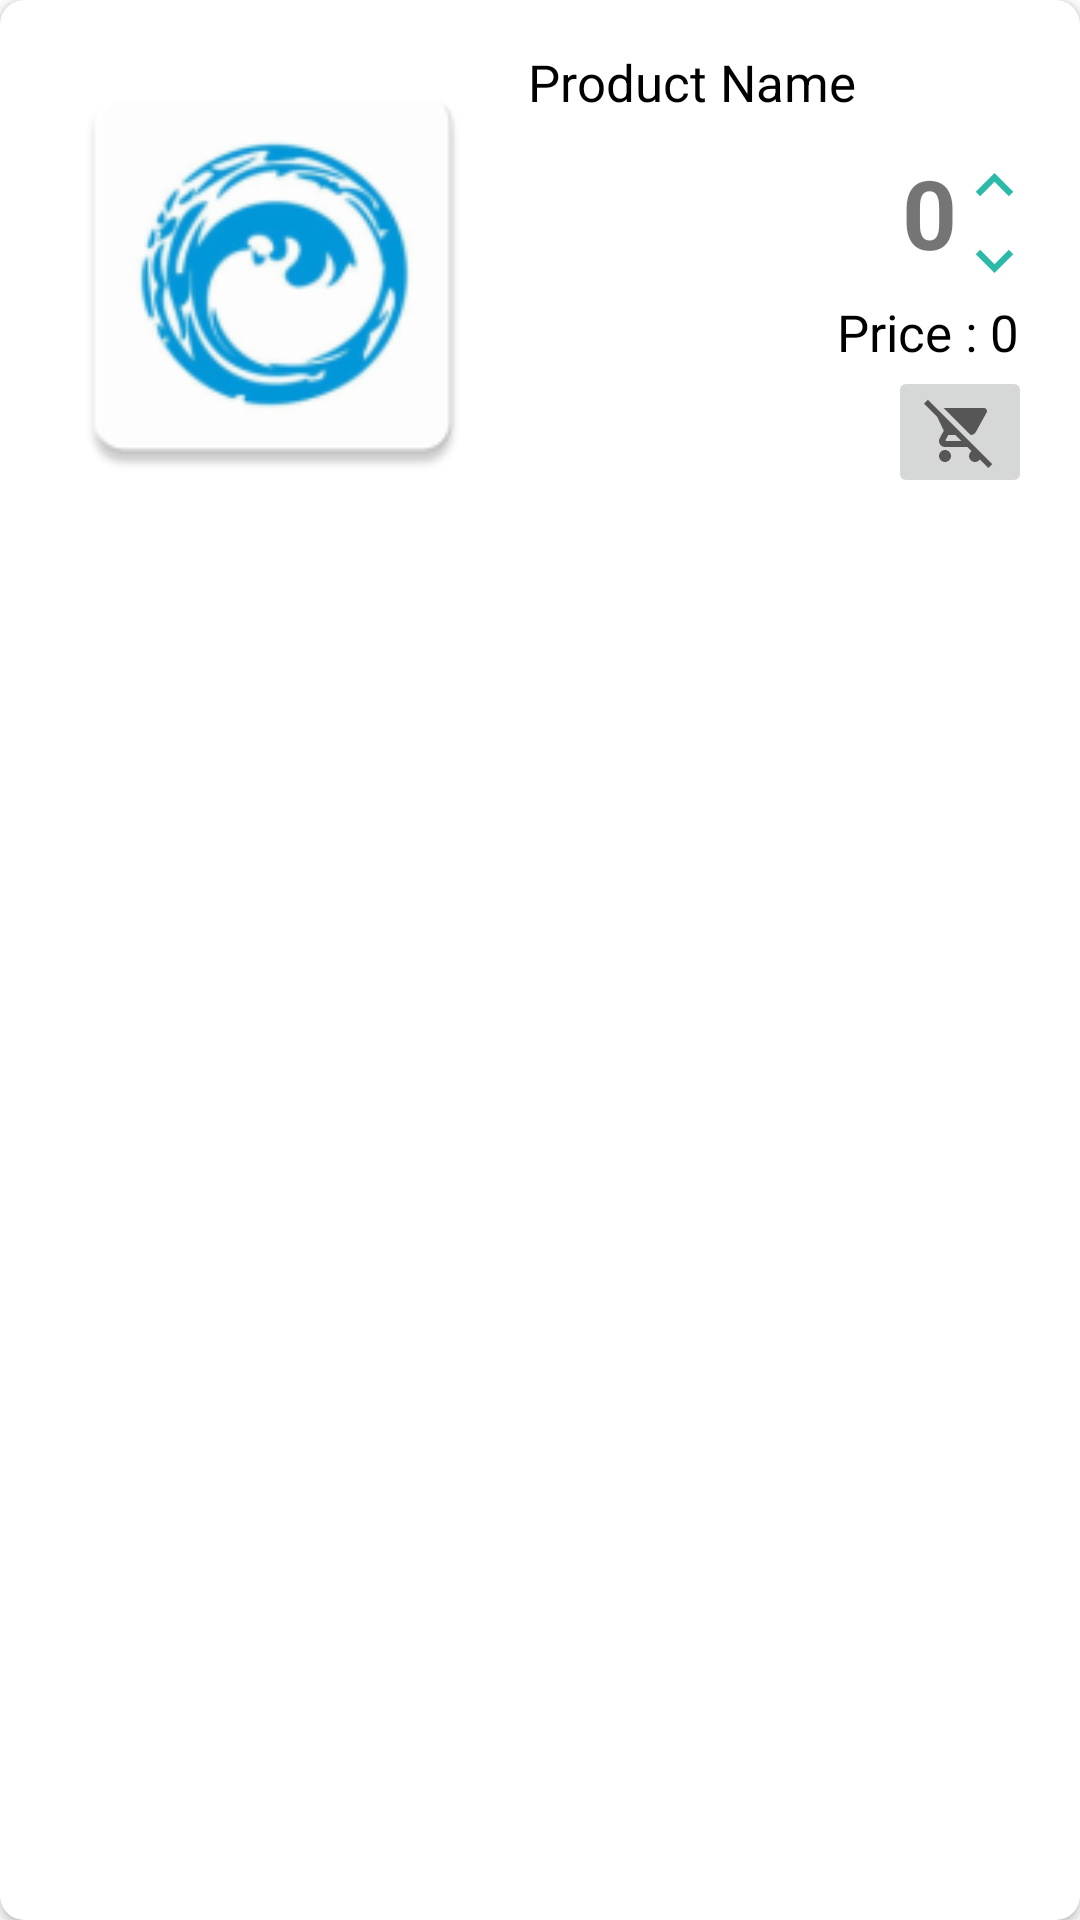

Point at icon controls on the screen. Image size 1080px×1920px, points as point (x, y).
expand less: point (994, 184)
expand more: point (994, 261)
remove shopping cart: point (960, 432)
